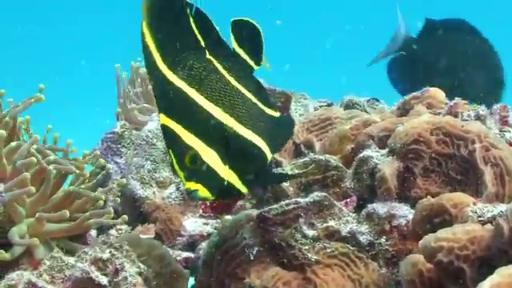Fish: (142, 0, 294, 200), (369, 9, 504, 107)
